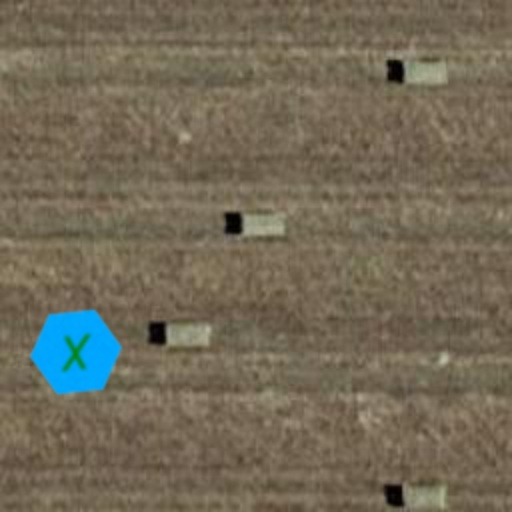hexagon: (24, 300, 128, 404)
